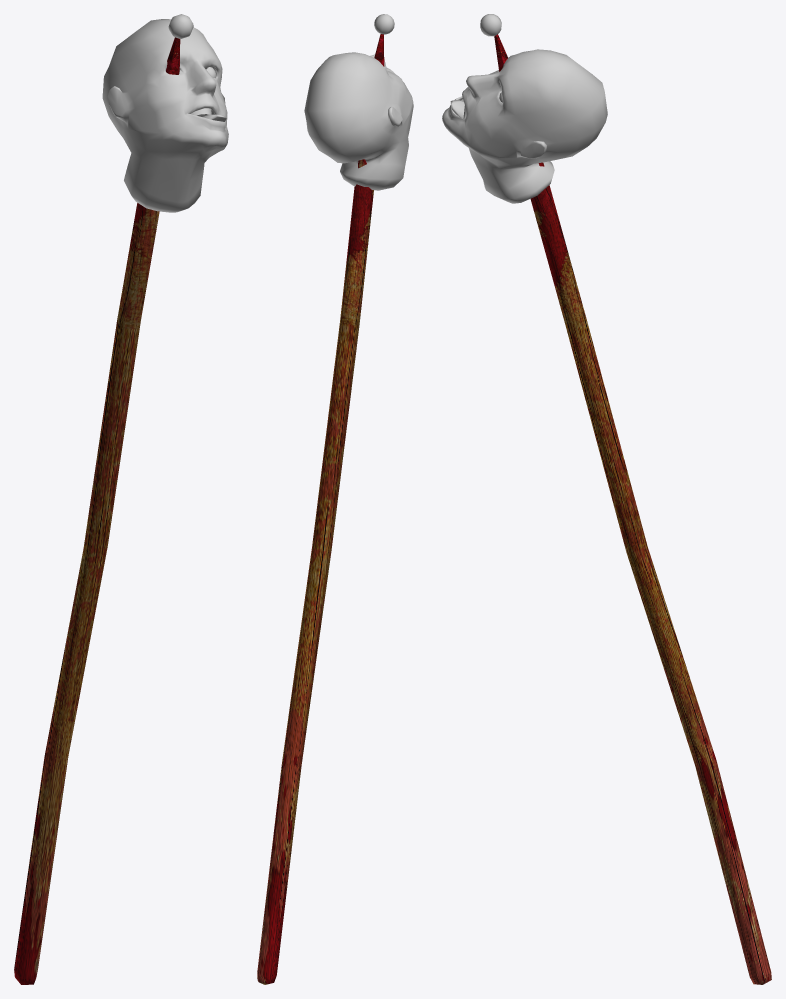
File: severed_exp_05.fbx
3 renders of one model, left to right at view 1: azimuth 30°, elevation 25°; view 2: azimuth 150°, elevation 25°; view 3: azimuth 270°, elevation 25°, orthographic. The views are drawn at different scales.
Visible parts, largest first — view 1: severed_exp_05; view 2: severed_exp_05; view 3: severed_exp_05.
Part boxes in pixels (<box>): severed_exp_05: <box>14,14,228,984</box>; severed_exp_05: <box>257,14,413,984</box>; severed_exp_05: <box>442,14,771,984</box>.
Bounding box in the file's own units: 0.2152 × 2.19 × 0.6733.
